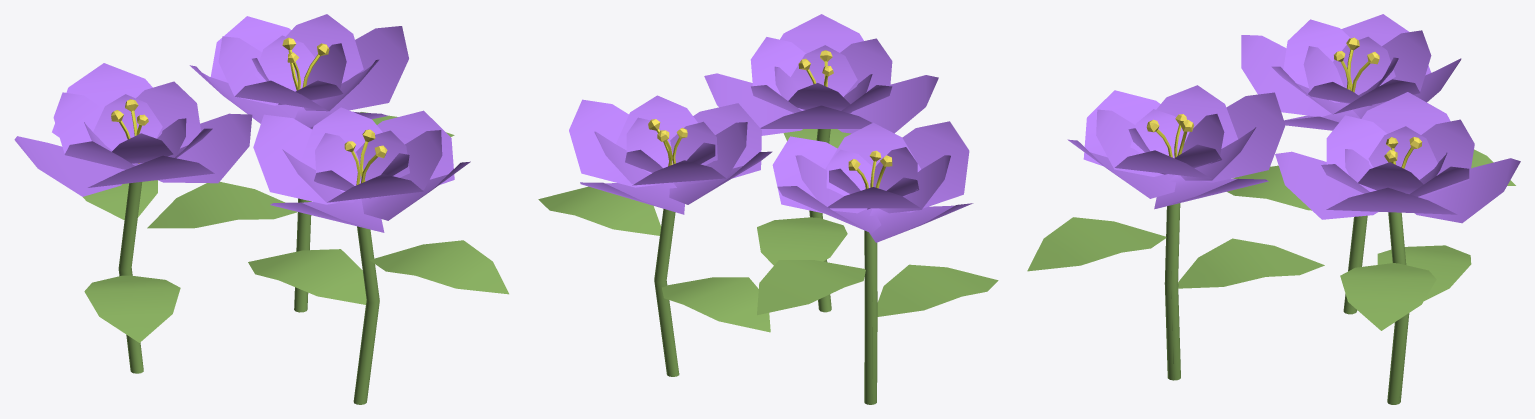
File: flowers01_purple.fbx
The picture shows the model from 3 angles, left to right: view 1: azimuth 30°, elevation 25°; view 2: azimuth 150°, elevation 25°; view 3: azimuth 270°, elevation 25°; orthographic projection. The views are drawn at different scales.
Parts seen in each view (by area): view 1: flowers01_purple; view 2: flowers01_purple; view 3: flowers01_purple.
Part boxes in pixels (left/top/right/bottom): flowers01_purple: left=14, top=14, right=508, bottom=404; flowers01_purple: left=538, top=14, right=998, bottom=404; flowers01_purple: left=1027, top=14, right=1520, bottom=404.
Size of the model in its own units: 1.83 by 1.05 by 1.78.
1 material, 1 textured.
